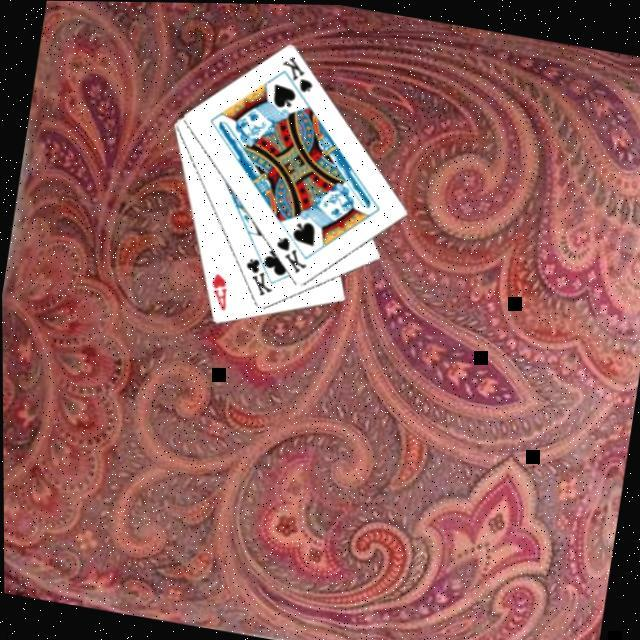AH: (206, 270, 234, 315)
KC: (239, 247, 282, 301)
KS: (275, 52, 321, 105), (270, 233, 315, 279)
